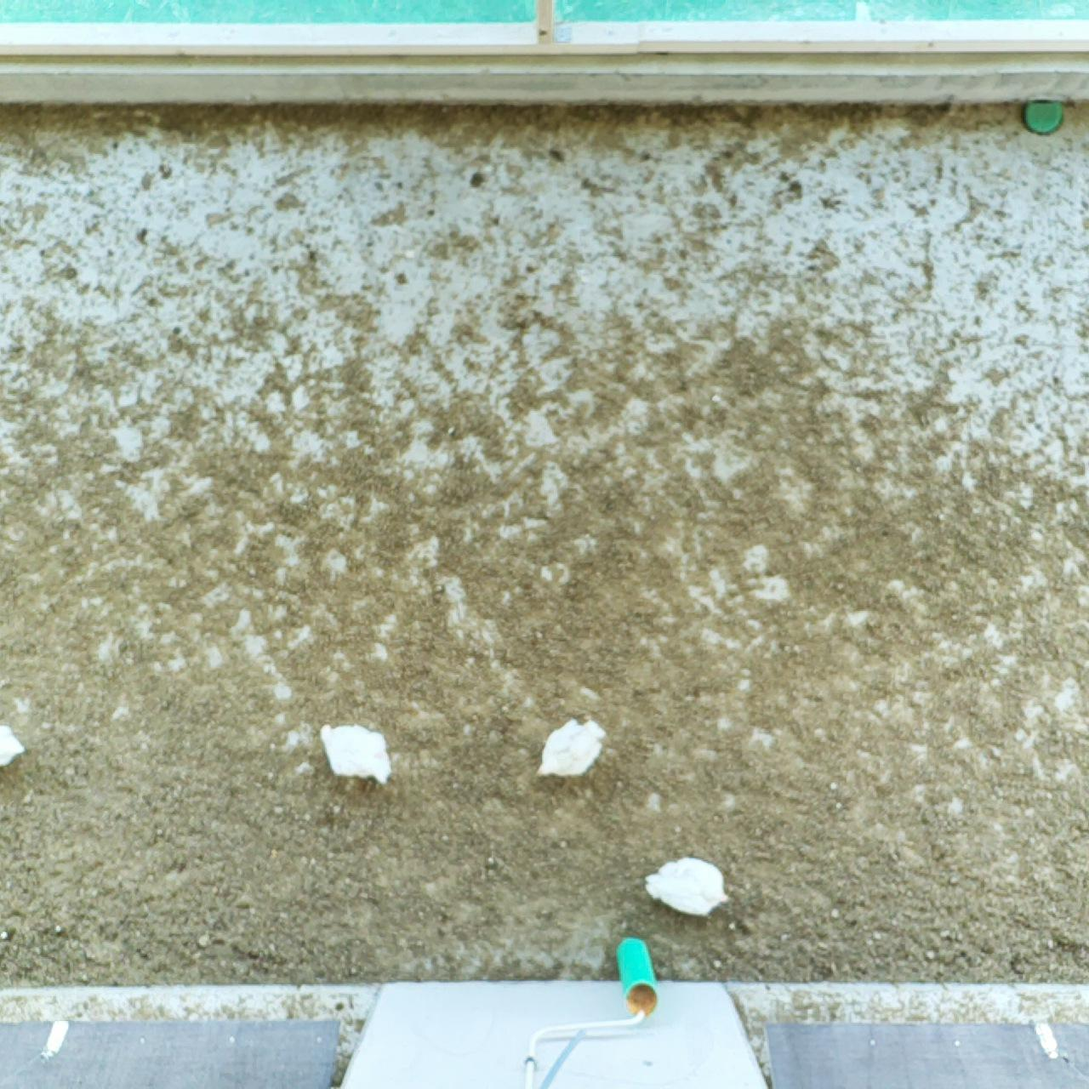chicken: (637, 857, 734, 919), (318, 717, 393, 787), (534, 718, 611, 785), (0, 713, 27, 773)
